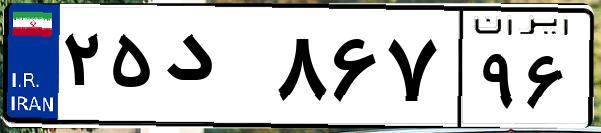2: (57, 26, 110, 100)
5: (110, 28, 158, 98)
6: (330, 28, 385, 110), (525, 38, 570, 115)
7: (385, 28, 445, 110)
8: (270, 28, 330, 110)
9: (475, 38, 525, 113)
د: (158, 20, 270, 120)
